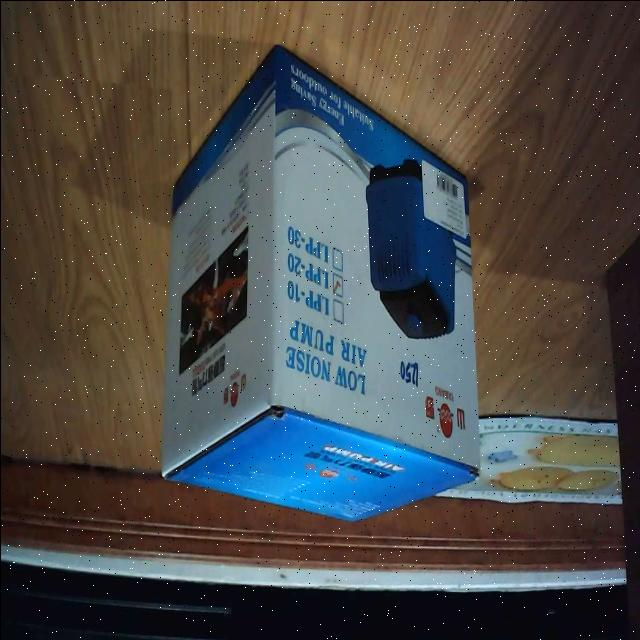YAMANO_LPP_20: (146, 47, 488, 557)
